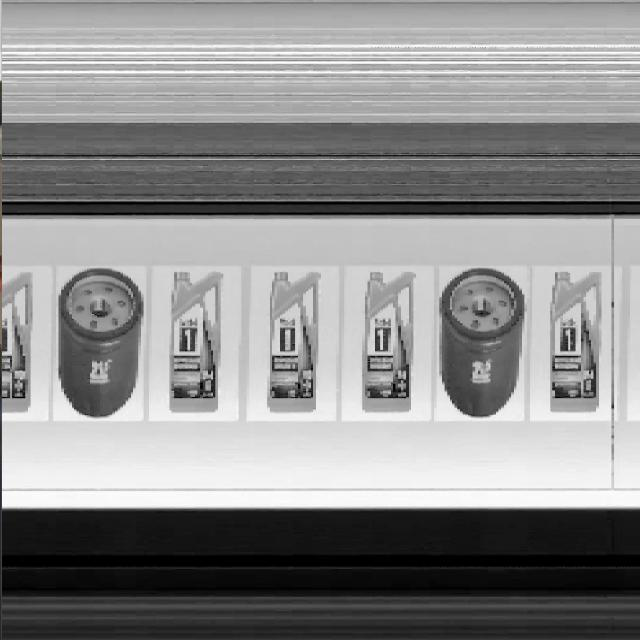motor_oil: (162, 262, 225, 426), (263, 263, 323, 424), (544, 266, 605, 421), (360, 266, 418, 424)
oil_filter: (436, 263, 528, 418), (56, 268, 146, 419)
